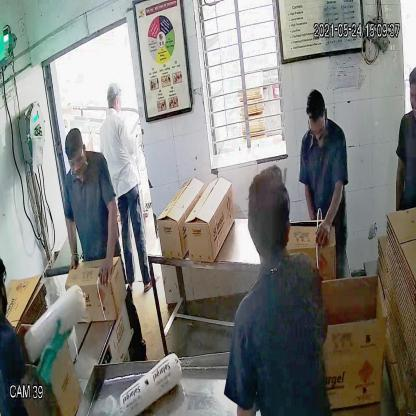goggles: (65, 146, 86, 168)
